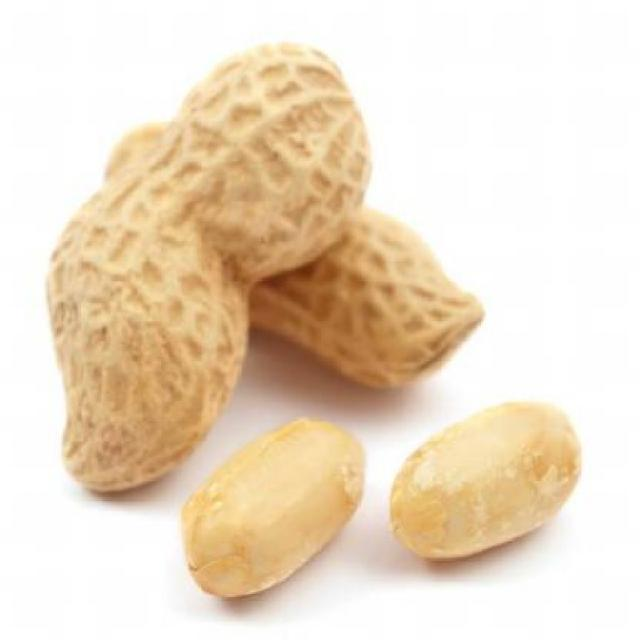Frutta secca: (21, 36, 582, 604)
